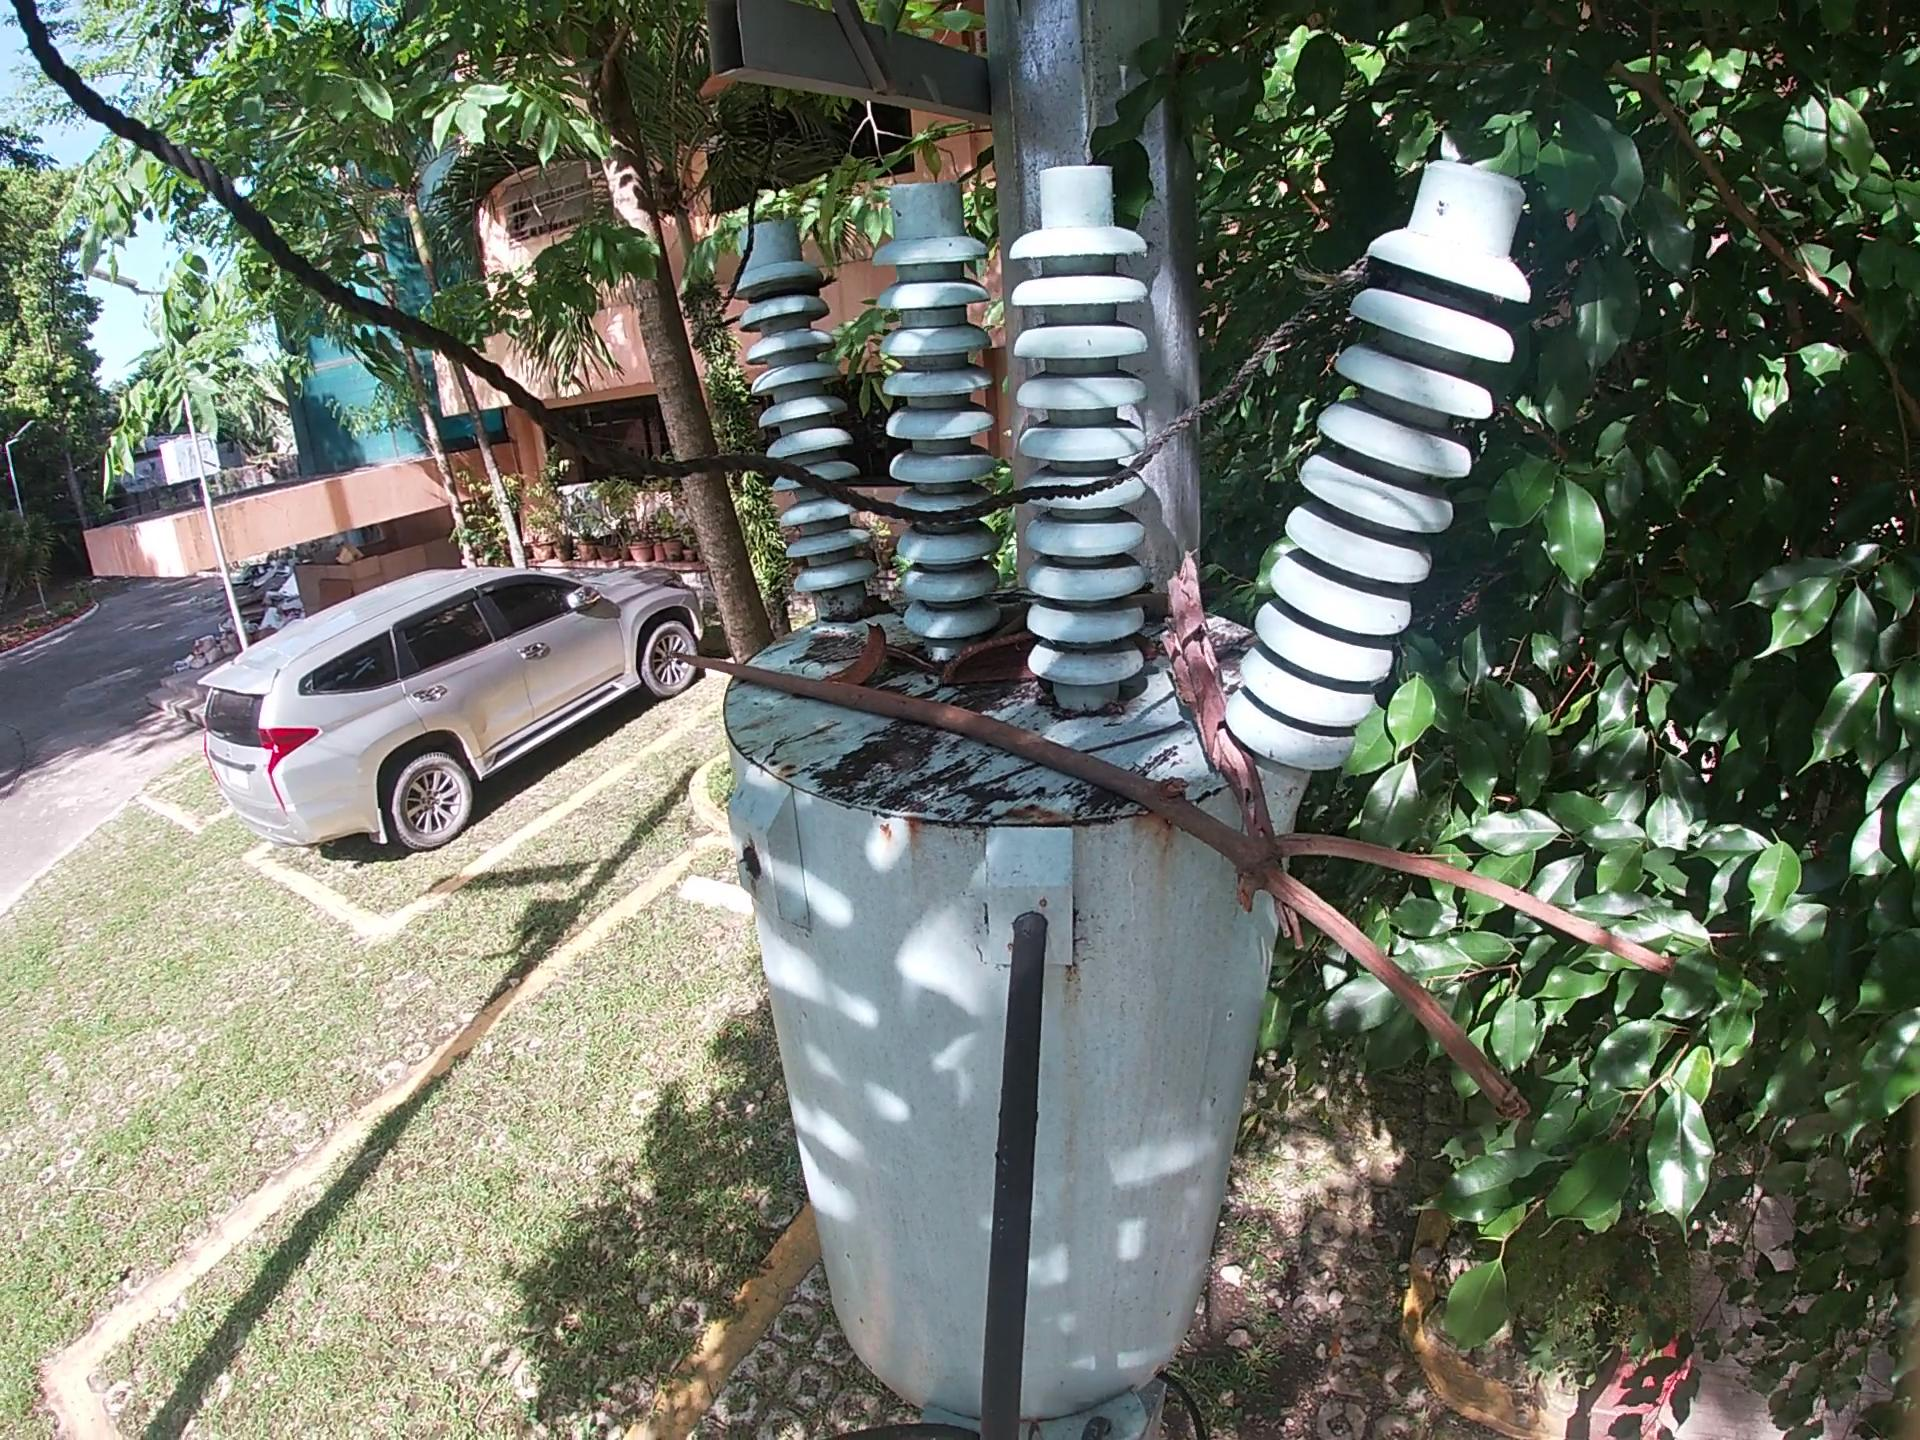mahogany fruit: (924, 629, 1048, 688), (815, 625, 893, 679)
tree branch: (659, 663, 1677, 1137), (1166, 554, 1287, 838), (907, 717, 1188, 818), (1001, 587, 1039, 629), (889, 641, 939, 667), (1134, 590, 1172, 616)
